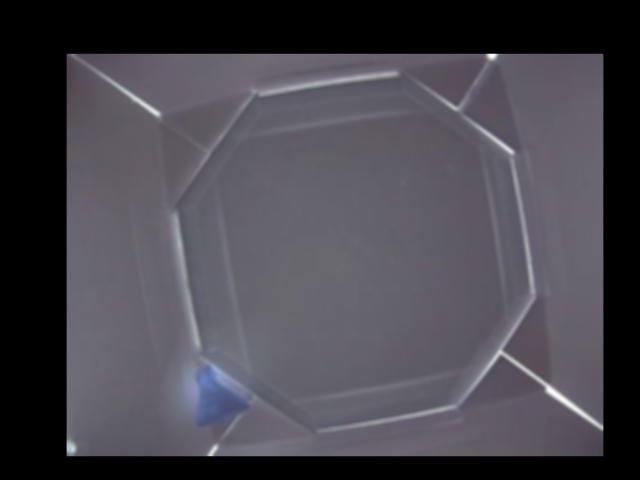Mooli: (194, 362, 251, 428)
